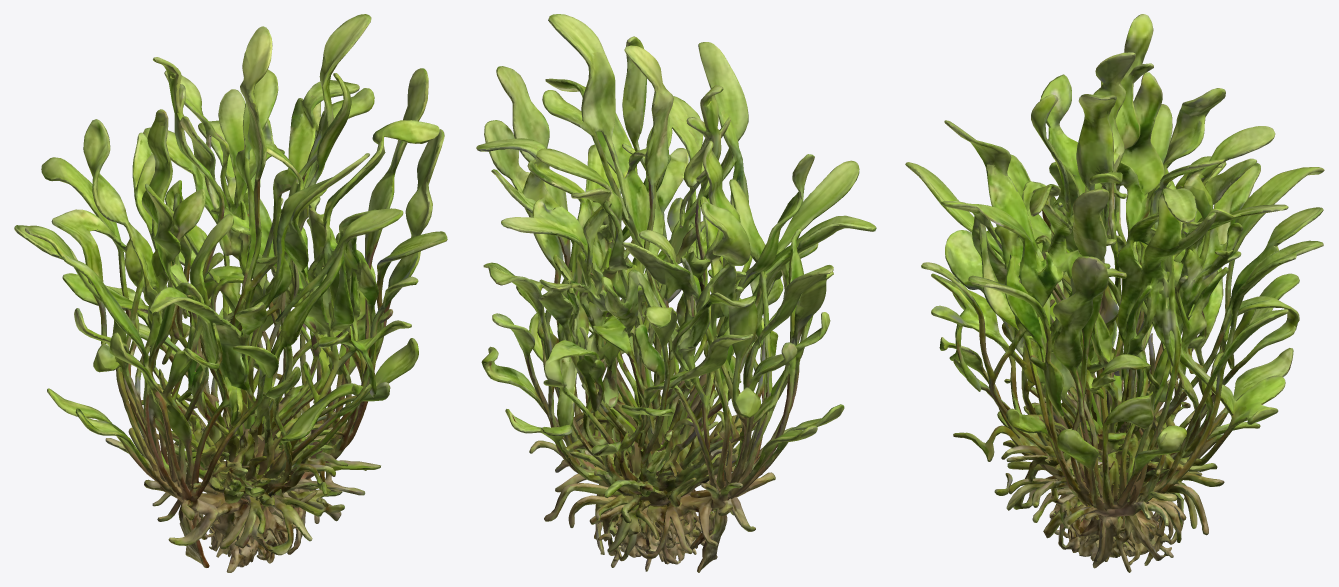
Rendered from submerged-plant-v9.glb.
3 views of the same model, side by side, from view 1: azimuth 30°, elevation 25°; view 2: azimuth 150°, elevation 25°; view 3: azimuth 270°, elevation 25° (orthographic).
Visible parts, largest first — view 1: geometry_0; view 2: geometry_0; view 3: geometry_0.
Boxes of the visible parts, <box> form: geometry_0: <box>14,14,447,572</box>; geometry_0: <box>476,14,876,572</box>; geometry_0: <box>905,14,1324,572</box>.
Size of the model in its own units: 0.1722 by 0.2199 by 0.1637.
Materials: 1 (1 with a texture image).
